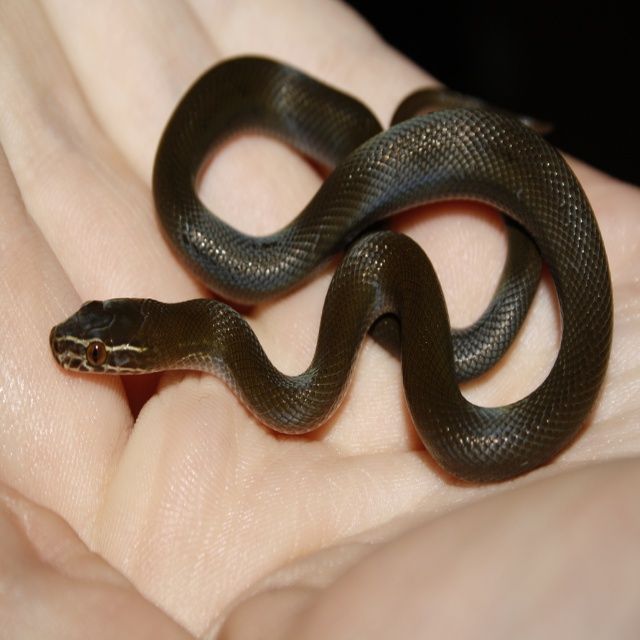Snake: (47, 52, 613, 480)
